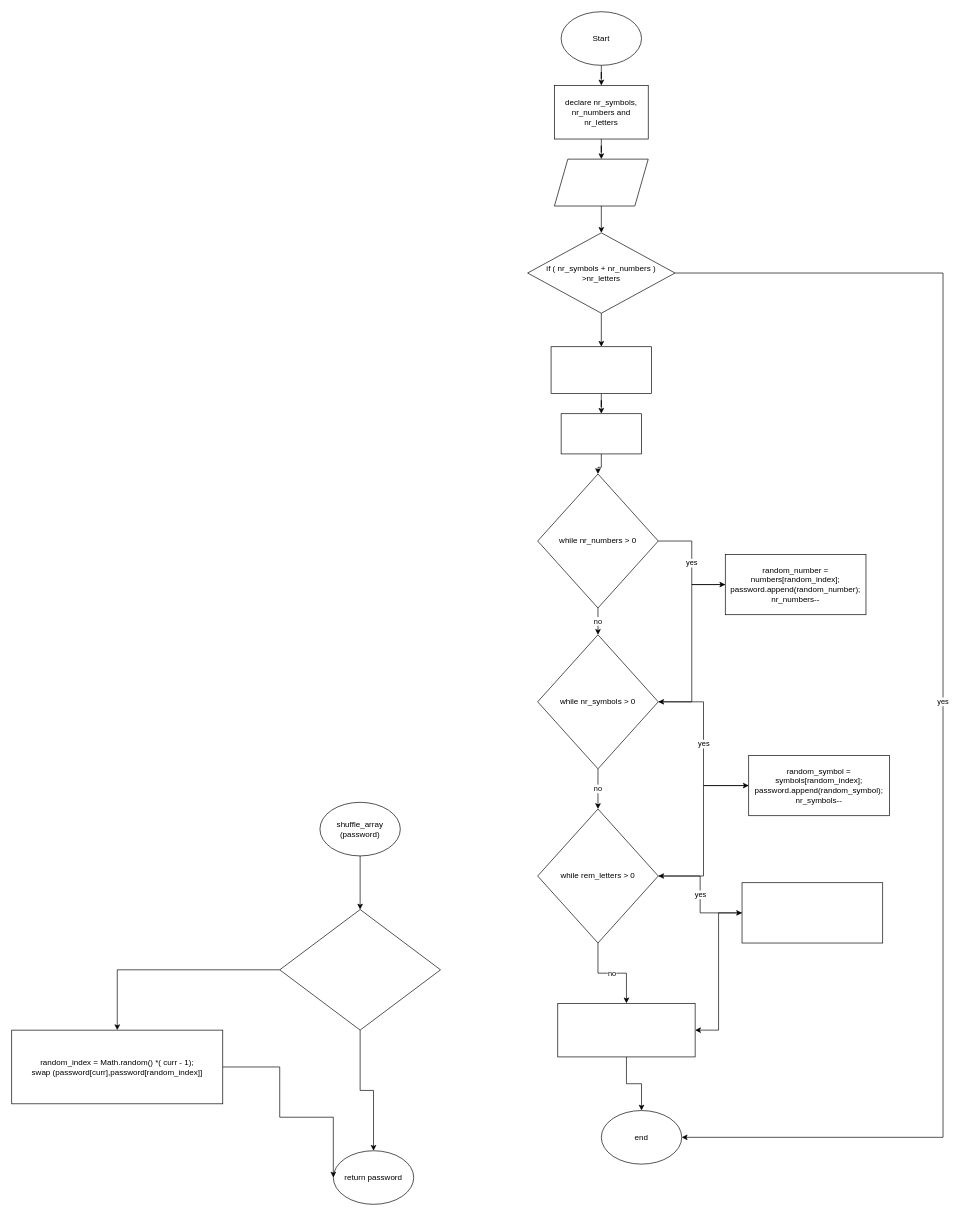
Some shapes in this 960 by 1216 pixel diagram are drawn without their labels. The shapes that lost their labels are listed below. From the top down, each one's centre as x and y in pixels, then its label:
At (x=601, y=182): "Read nr_symbols, nr_numbers and nr_letters".
At (x=601, y=370): "declare password = [], rem_letters".
At (x=601, y=433): "rem_letters = nr_letters - (nr_numbers + nr_symbols)".
At (x=812, y=912): "random_char = letters[random_index]; password.append(random_char); rem_letters--".
At (x=360, y=969): "for curr = password.length - 1; curr >=0; curr--".
At (x=626, y=1030): "password = shuffle_array(password).join('')".
